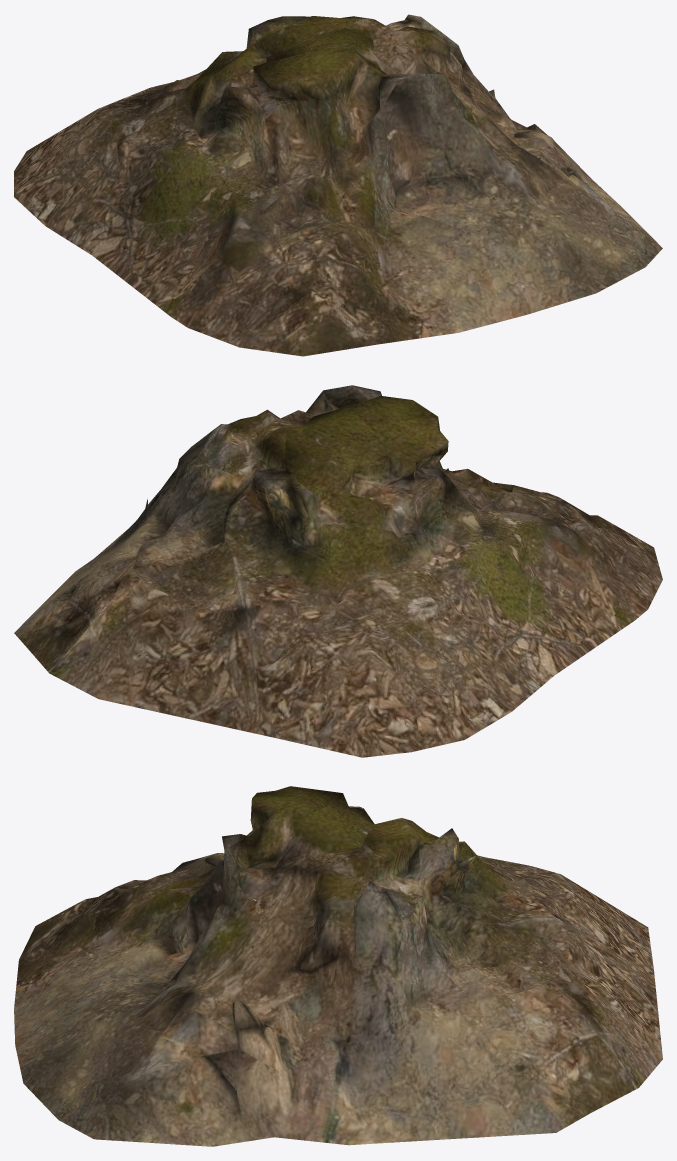
The model's file is tree_stump_01.glb.
3 renders of one model, top to bottom at view 1: azimuth 30°, elevation 25°; view 2: azimuth 150°, elevation 25°; view 3: azimuth 270°, elevation 25°, orthographic. The views are drawn at different scales.
Parts seen in each view (by area): view 1: tree_stump_01; view 2: tree_stump_01; view 3: tree_stump_01.
Boxes of the visible parts, x1,y1,x2,y2 form: tree_stump_01: [14, 14, 662, 356]; tree_stump_01: [14, 385, 662, 757]; tree_stump_01: [14, 786, 662, 1146].
Bounding box in the file's own units: 1.43 × 0.57 × 1.59.
Materials: 1 (1 with a texture image).
